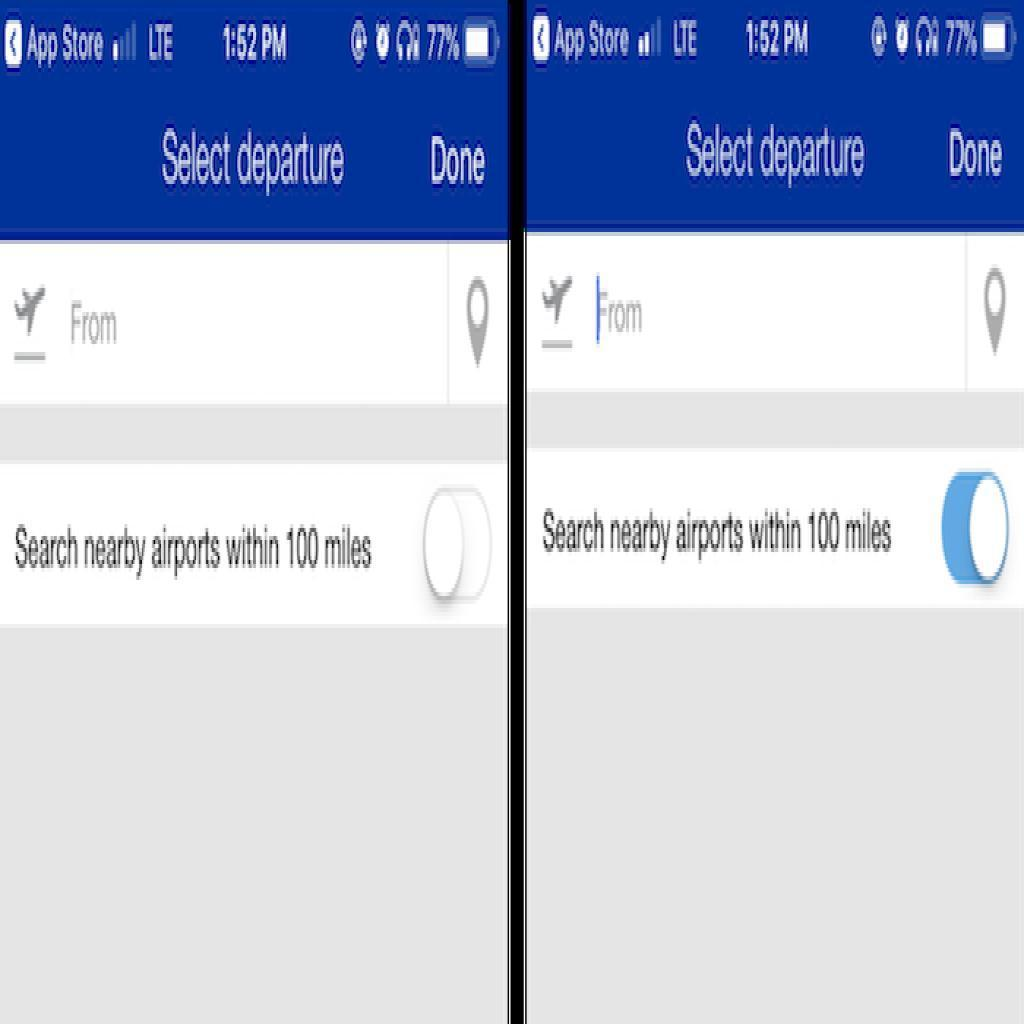icon: (459, 273, 495, 379), (980, 263, 1016, 361)
input: (530, 232, 966, 393), (1, 244, 449, 400)
switch: (942, 453, 1014, 601), (419, 479, 500, 608)
